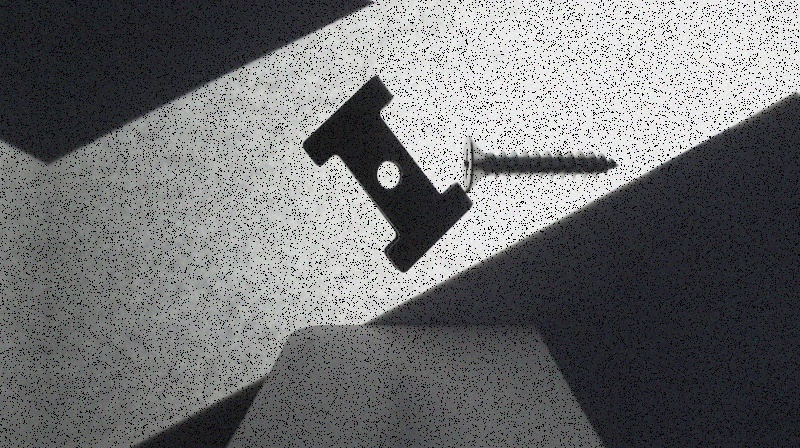O002: (300, 74, 471, 273)
S001: (465, 134, 619, 192)
